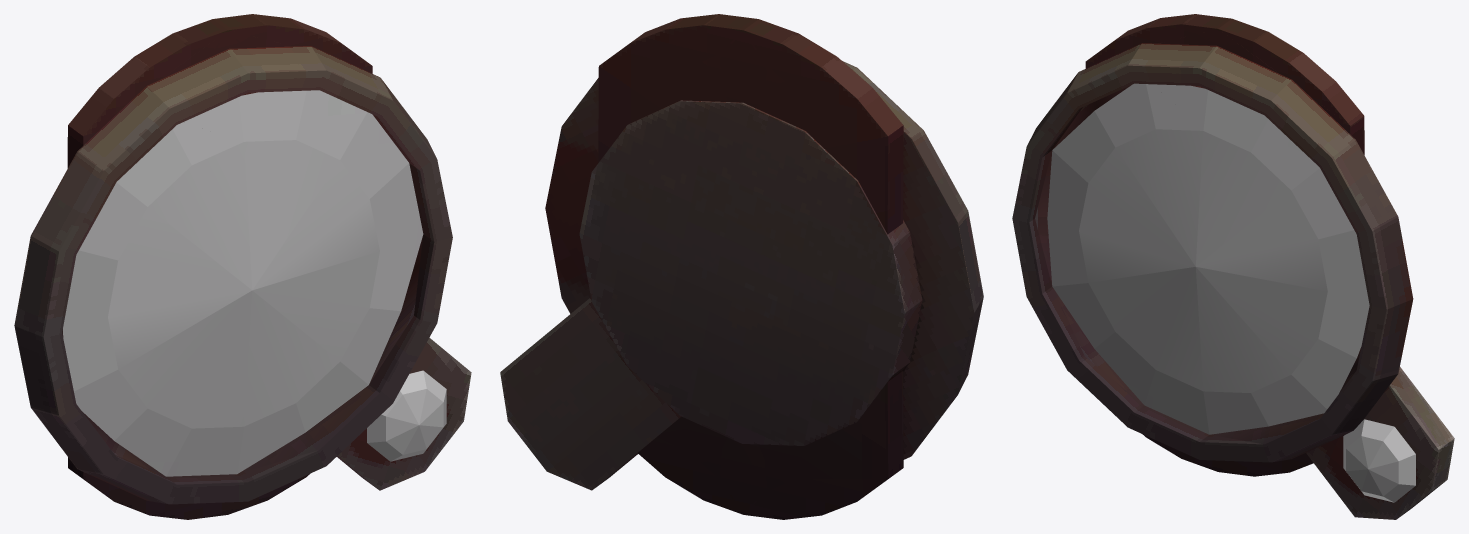
The model's file is item_film_gel_blue.glb.
3 renders of one model, left to right at view 1: azimuth 30°, elevation 25°; view 2: azimuth 150°, elevation 25°; view 3: azimuth 330°, elevation 25°, orthographic. The views are drawn at different scales.
Visible parts, largest first — view 1: Gel, IndicatorTab; view 2: Gel, IndicatorTab; view 3: Gel, IndicatorTab.
Boxes of the visible parts, x1,y1,x2,y2 form: Gel: [14, 14, 452, 519]; IndicatorTab: [337, 338, 471, 490]; Gel: [545, 14, 983, 519]; IndicatorTab: [500, 297, 681, 490]; Gel: [1012, 14, 1413, 476]; IndicatorTab: [1306, 367, 1454, 519].
Size of the model in its own units: 0.1936 by 0.2009 by 0.0302.
Materials: 1 (1 with a texture image).
